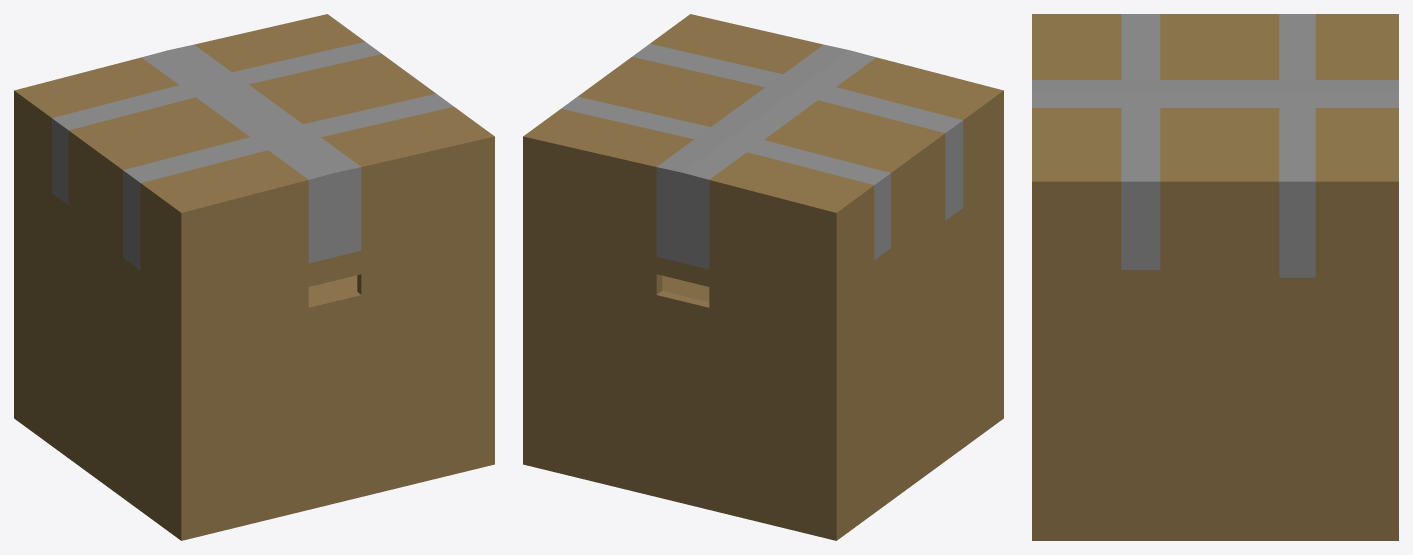
The model's file is cardboardBoxTape.fbx.
The picture shows the model from 3 angles, left to right: view 1: azimuth 30°, elevation 25°; view 2: azimuth 150°, elevation 25°; view 3: azimuth 270°, elevation 25°; orthographic projection. The views are drawn at different scales.
Parts seen in each view (by area): view 1: Cube; view 2: Cube; view 3: Cube.
Part boxes in pixels (left/top/right/bottom): Cube: left=14, top=14, right=494, bottom=540; Cube: left=523, top=14, right=1003, bottom=540; Cube: left=1032, top=14, right=1398, bottom=540.
Size of the model in its own units: 200 by 202 by 185.
